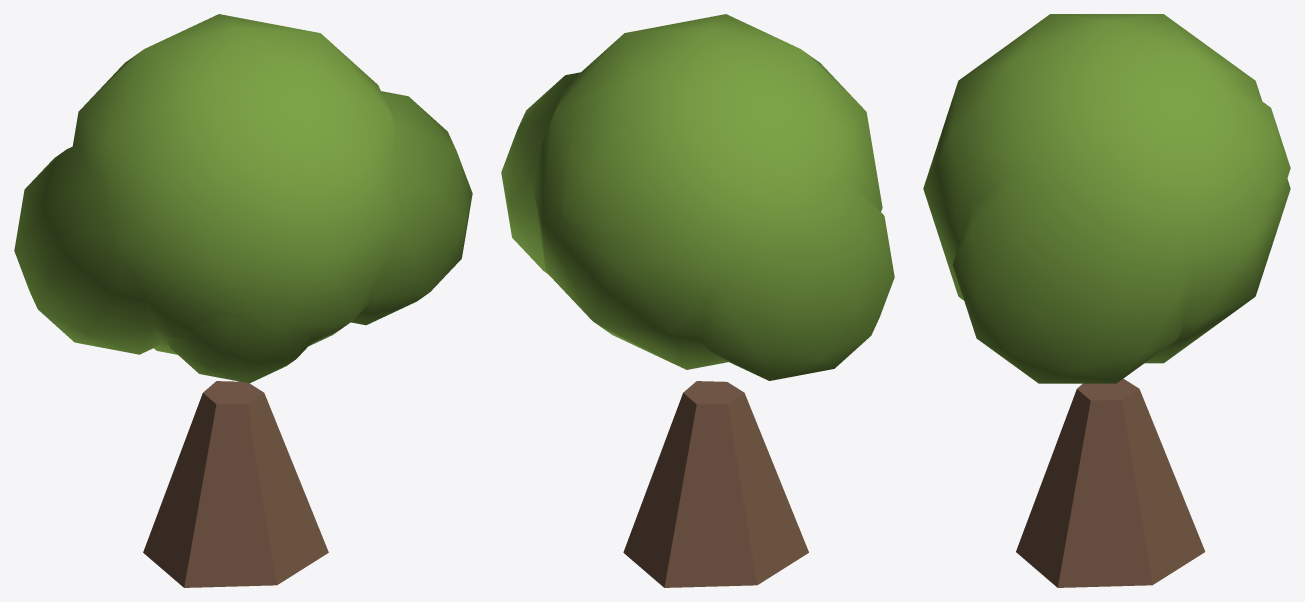
Rendered from tree_a.glb.
3 views of the same model, side by side, from view 1: azimuth 30°, elevation 25°; view 2: azimuth 150°, elevation 25°; view 3: azimuth 270°, elevation 25° (orthographic). The views are drawn at different scales.
Visible parts, largest first — view 1: Canopy, Trunk; view 2: Canopy, Trunk; view 3: Canopy, Trunk.
Part boxes in pixels (x1,y1,x2,y2): Canopy: (14,14,472,383); Trunk: (143,381,328,587); Canopy: (501,14,894,380); Trunk: (623,381,808,587); Canopy: (923,14,1290,383); Trunk: (1016,378,1205,587).
Size of the model in its own units: 3.12 by 4 by 2.5.
